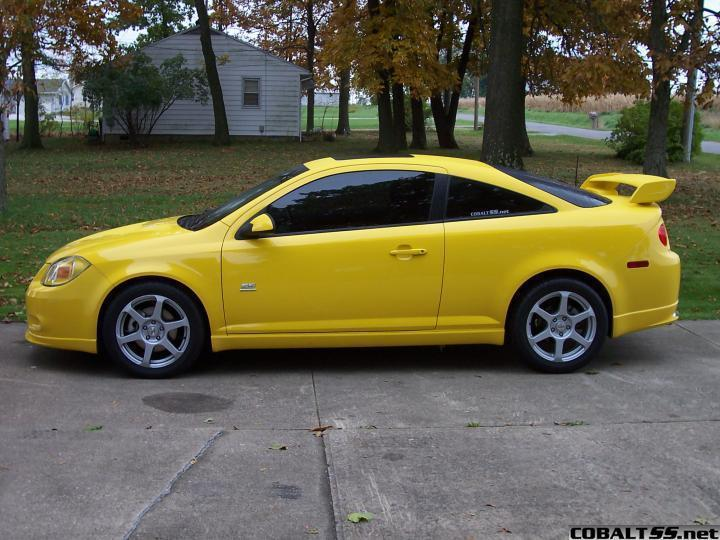Car: (17, 136, 698, 401)
